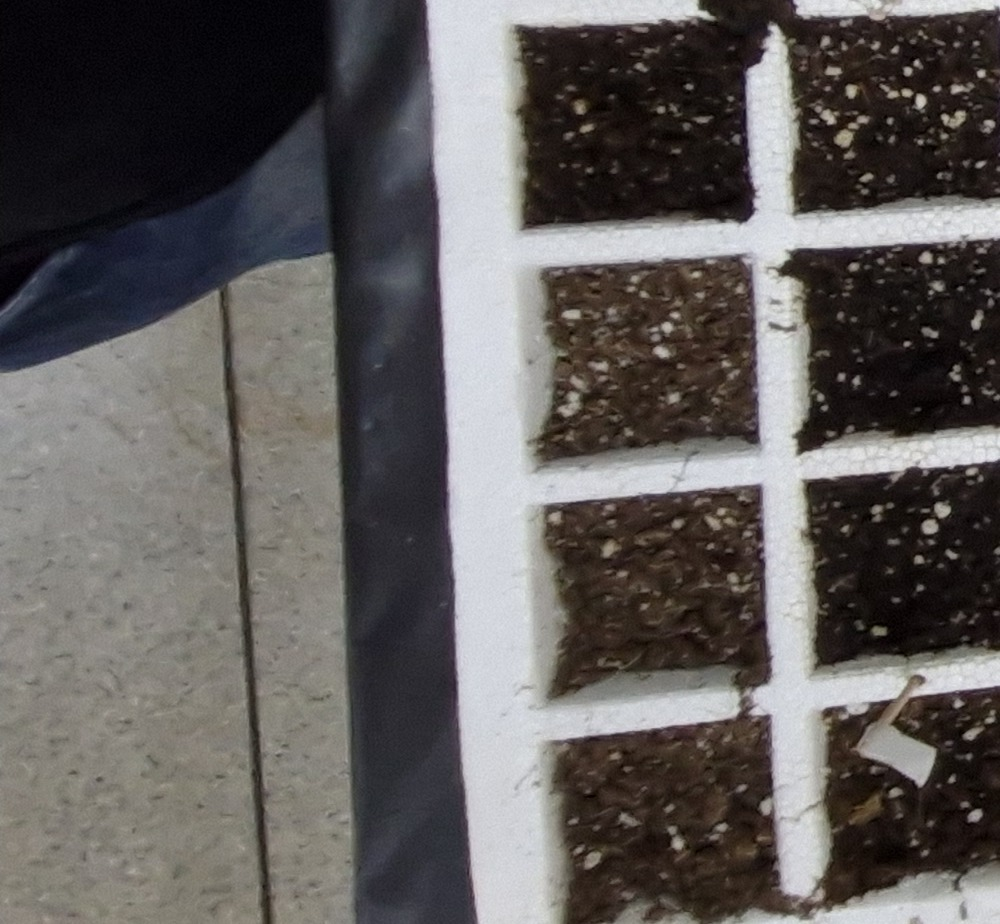Folha: (603, 424, 617, 436), (590, 430, 605, 440)
Germinacao: (591, 425, 617, 441), (431, 912, 447, 924)
